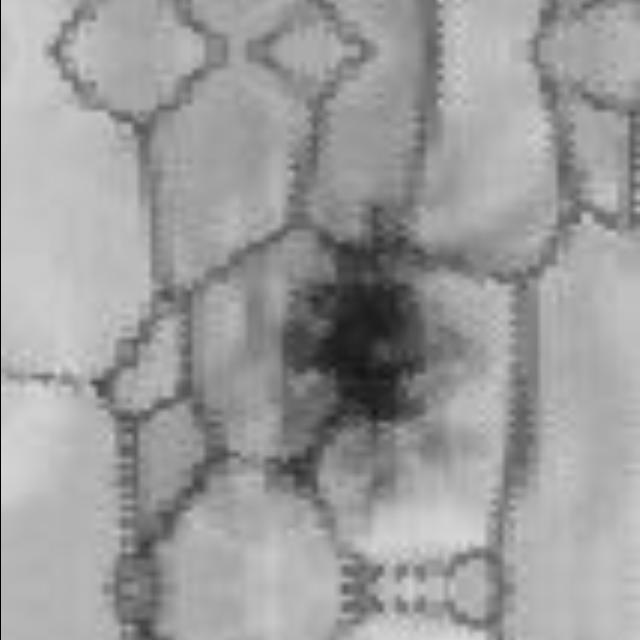good_void: (261, 208, 438, 490)
